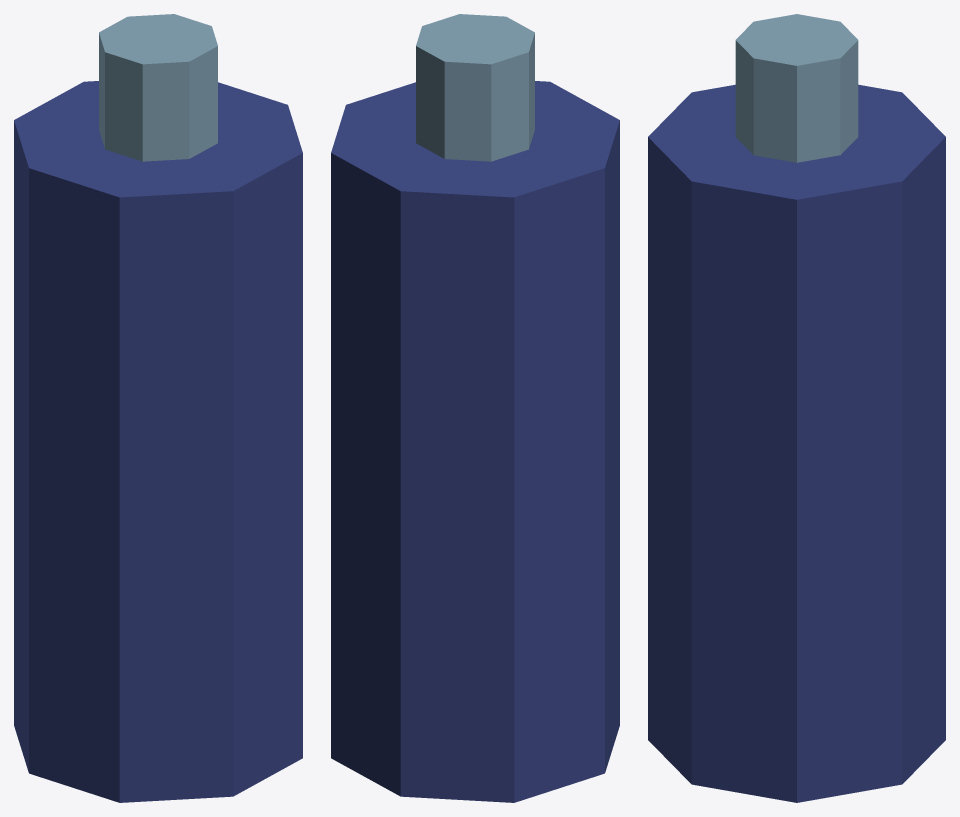
Rendered from Bottle_9.fbx.
The picture shows the model from 3 angles, left to right: view 1: azimuth 30°, elevation 25°; view 2: azimuth 150°, elevation 25°; view 3: azimuth 270°, elevation 25°; orthographic projection.
Parts seen in each view (by area): view 1: Bottle_9; view 2: Bottle_9; view 3: Bottle_9.
Boxes of the visible parts, <box> form: Bottle_9: <box>14,14,302,802</box>; Bottle_9: <box>331,14,619,802</box>; Bottle_9: <box>648,14,945,802</box>.
Size of the model in its own units: 9.16 by 9.16 by 23.74.
